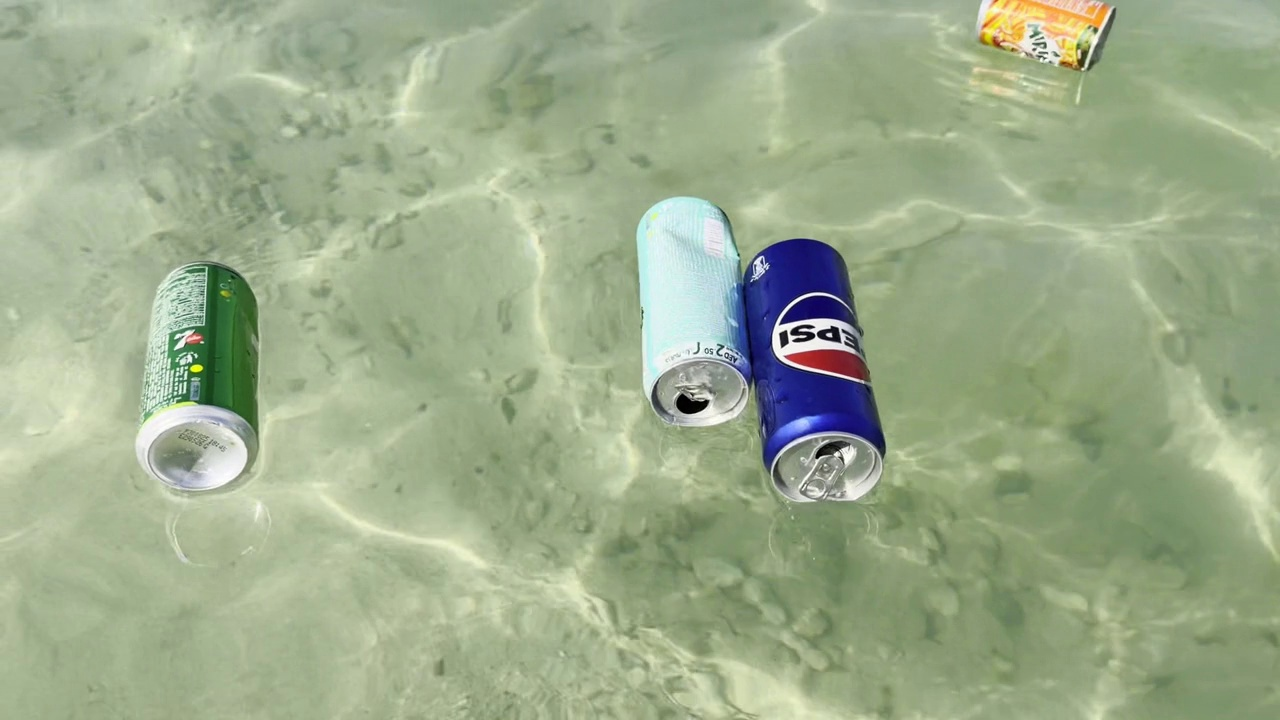debris: (729, 225, 893, 520), (136, 241, 270, 511), (622, 186, 756, 437), (963, 0, 1126, 78)
